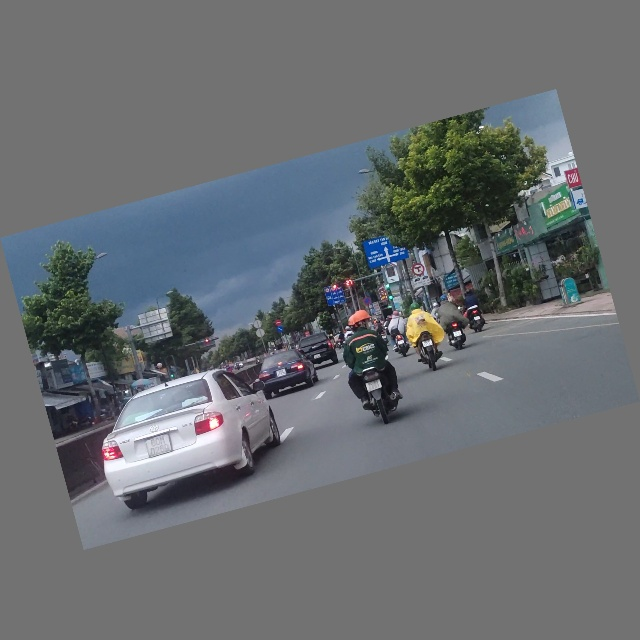P.102: (274, 320, 282, 327)
P.131a: (363, 298, 371, 306)
P.137: (411, 263, 426, 278)
R.302a: (276, 326, 285, 334)
R.415a: (325, 289, 346, 307)
